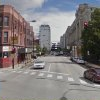crosswalk: (17, 70, 88, 85)
